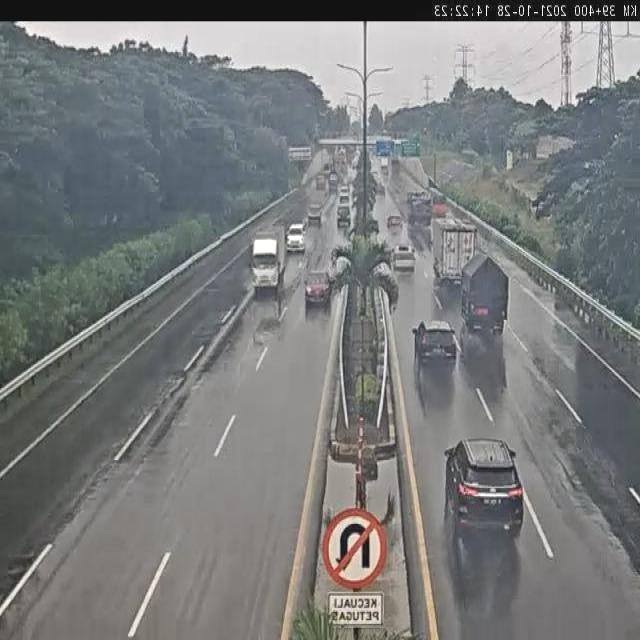Car: (446, 437, 526, 539), (410, 318, 458, 372), (304, 270, 331, 308), (407, 191, 432, 225), (392, 244, 417, 273), (285, 223, 306, 252), (306, 202, 323, 224), (337, 204, 351, 228), (338, 184, 351, 204), (387, 215, 402, 230), (316, 175, 325, 191)
Truck: (459, 252, 509, 337), (427, 217, 477, 288), (248, 224, 286, 290), (380, 156, 389, 170)
